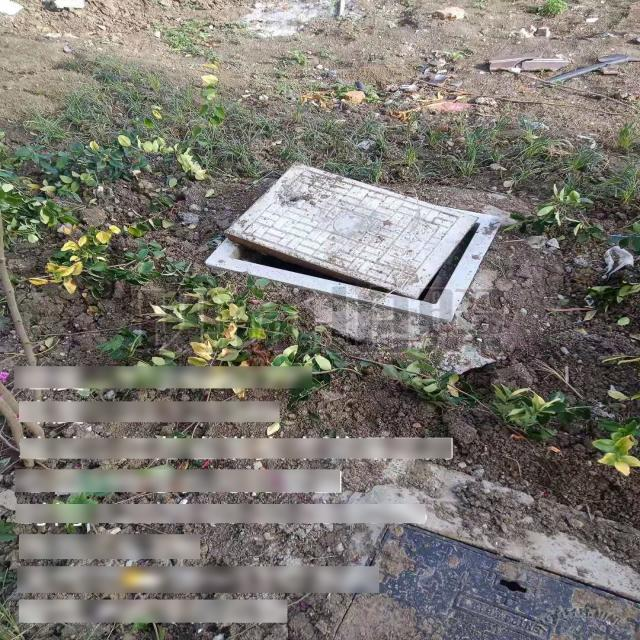Lose: (202, 162, 504, 318)
